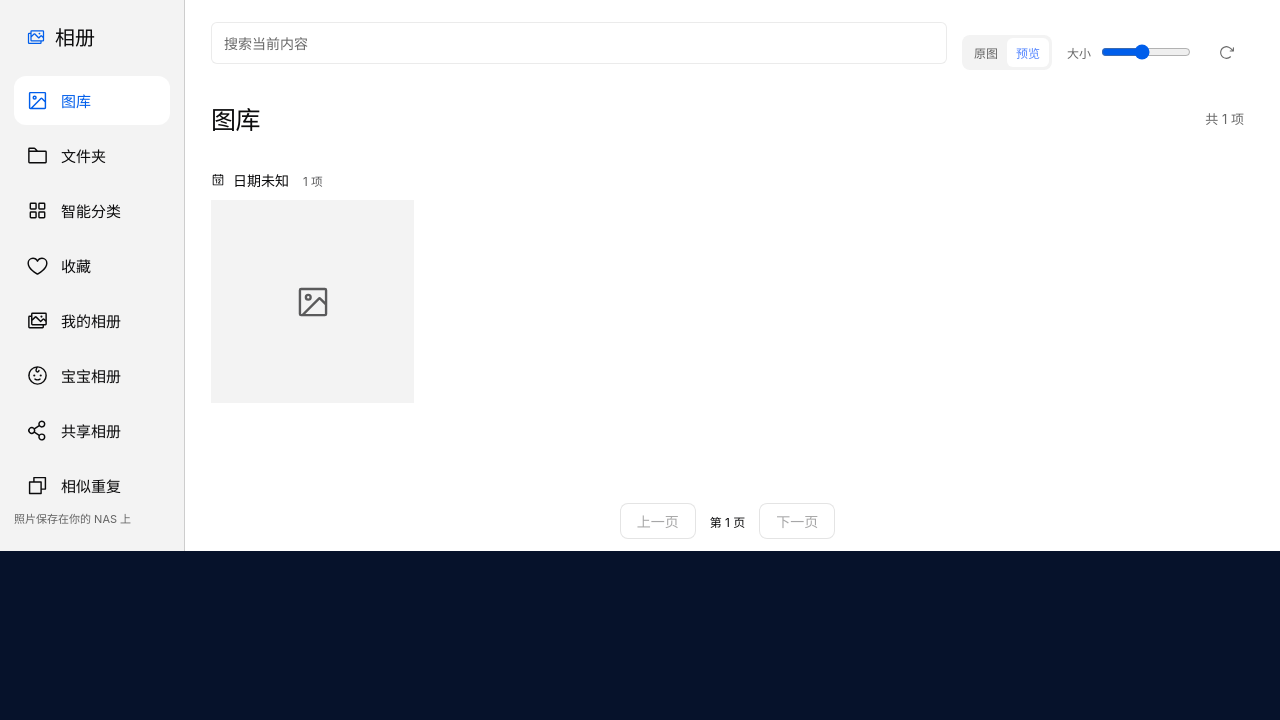
Test: 点击照片打开查看器：role=dialog、aria-label 为文件名、可返回相册
The width and height of the screenshot is (1280, 720).
Click the button named "媒体 p1" at coordinates (313, 302), box [211,200,414,403]
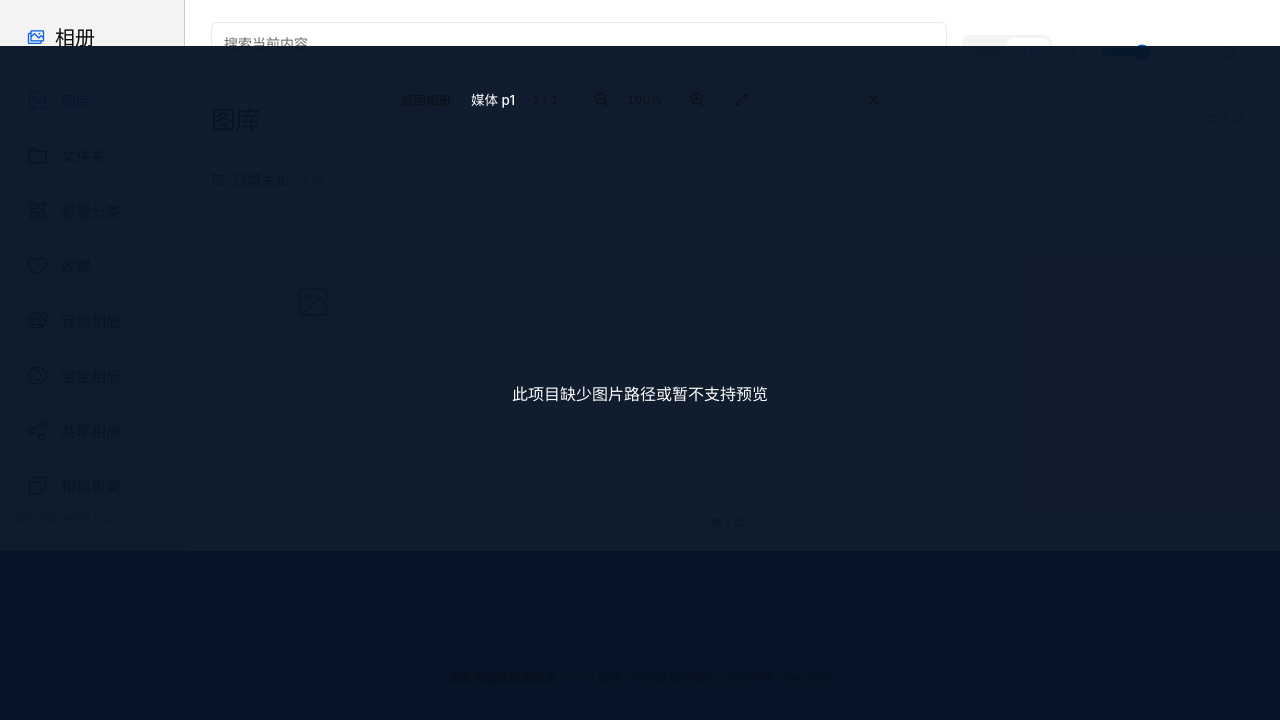
Expected: the element showing "返回相册 媒体 p1 1 / 1 100%" is shown, [377,71,903,128]
Expected: the heading "媒体 p1" is shown, [471,89,515,109]
Click the button "返回相册" at coordinates (426, 99), box [389,81,463,117]
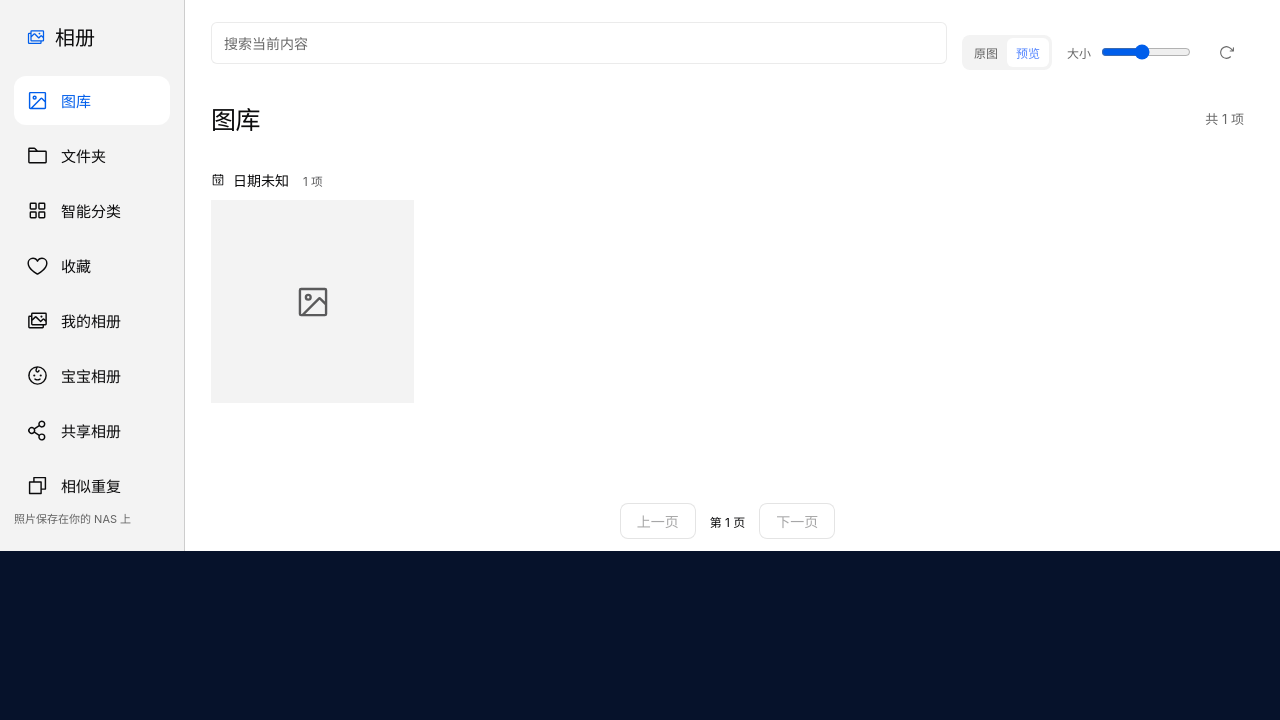
Expected: the dialog is gone
